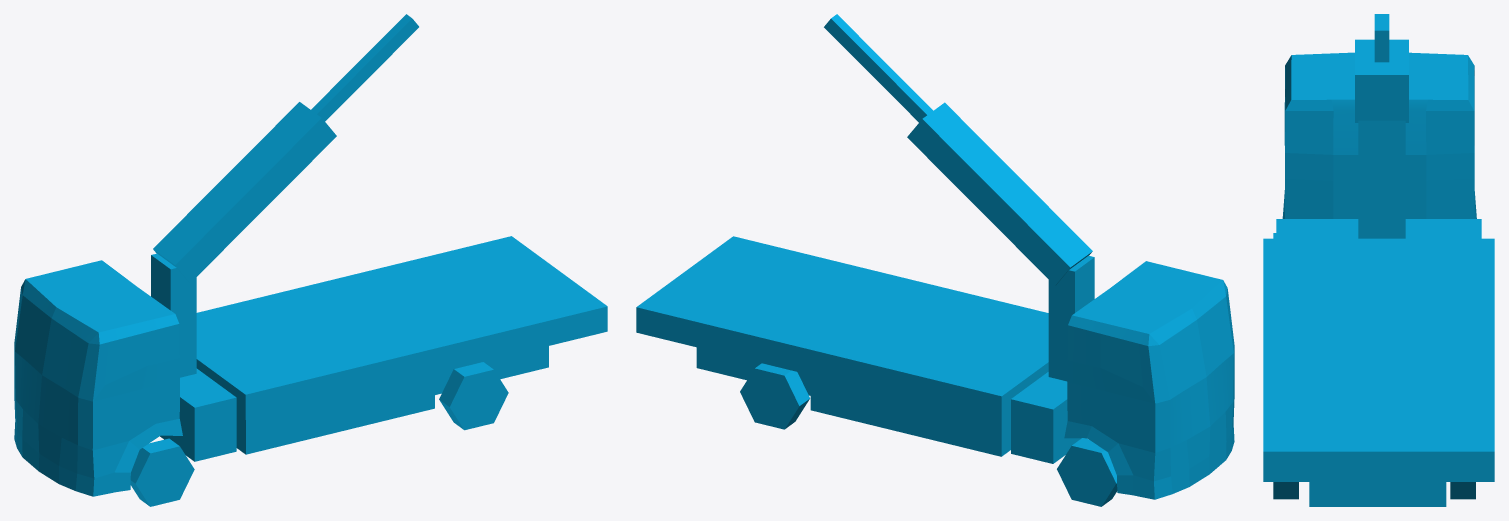
The model's file is Truck_01A_Lod1.fbx.
3 renders of one model, left to right at view 1: azimuth 30°, elevation 25°; view 2: azimuth 150°, elevation 25°; view 3: azimuth 270°, elevation 25°, orthographic. The views are drawn at different scales.
Visible parts, largest first — view 1: Truck_01A_Lod1; view 2: Truck_01A_Lod1; view 3: Truck_01A_Lod1.
Part boxes in pixels (<box>): Truck_01A_Lod1: <box>14,14,607,506</box>; Truck_01A_Lod1: <box>636,14,1234,506</box>; Truck_01A_Lod1: <box>1263,14,1494,506</box>.
Size of the model in its own units: 1073 by 755 by 343.
